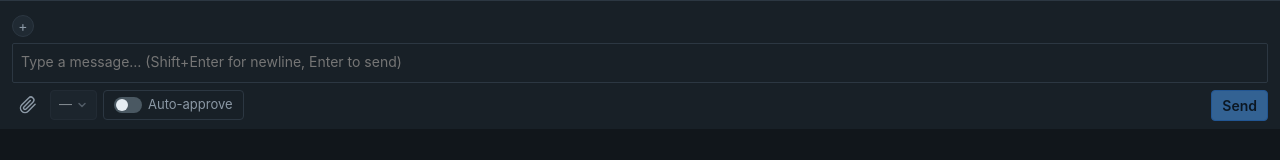
<Composer> › empty-input handling › enables Send once there is text
This screenshot has width=1280, height=160.
Type "hi" into the text box with placeholder "Type a message… (Shift+Enter for newline, Enter to send)" at (640, 63), box [12,43,1268,83]
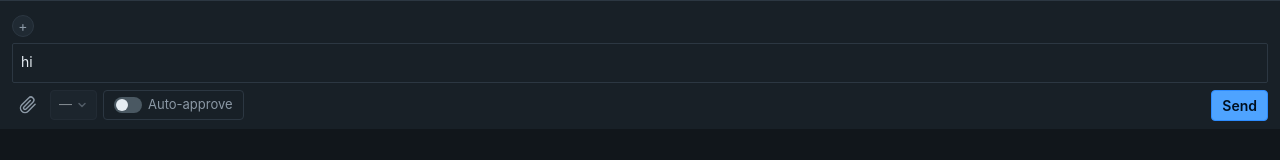
Result: the button "Send" is enabled at [1211,90,1268,120]
